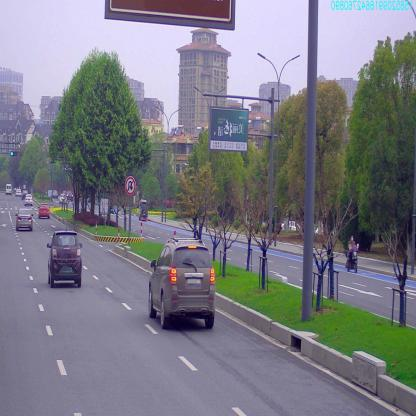traffic-light: (11, 151, 19, 155)
